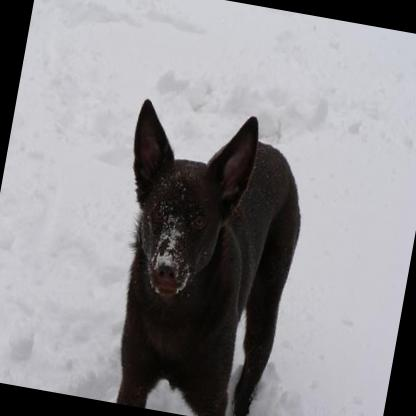kelpie: (86, 91, 319, 416)
